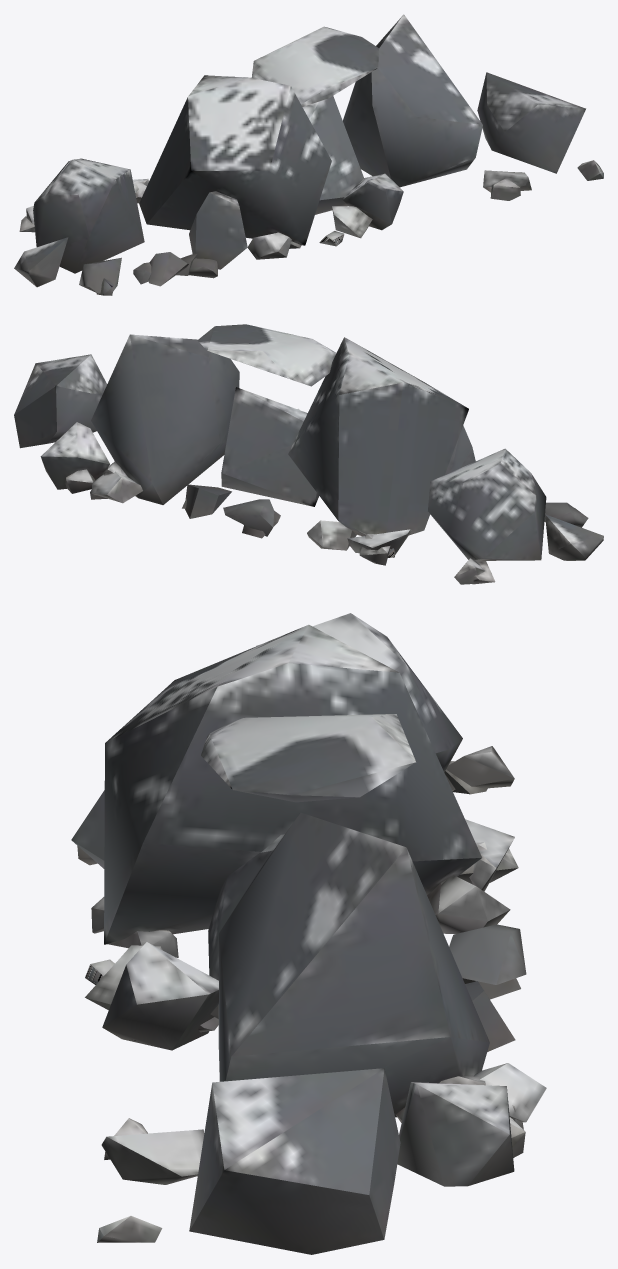
The model's file is ridge-snow.low.glb.
3 views of the same model, one above another, from view 1: azimuth 30°, elevation 25°; view 2: azimuth 150°, elevation 25°; view 3: azimuth 270°, elevation 25° (orthographic). The views are drawn at different scales.
Visible parts, largest first — view 1: ridge-snow; view 2: ridge-snow; view 3: ridge-snow.
Boxes of the visible parts, <box> form: ridge-snow: <box>14,14,603,295</box>; ridge-snow: <box>14,324,603,584</box>; ridge-snow: <box>71,613,546,1254</box>.
Bounding box in the file's own units: 3.01 × 0.8234 × 1.12.
1 material, 1 textured.
